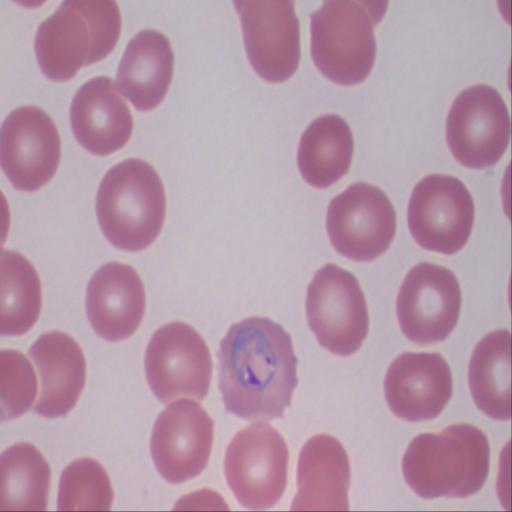Infected: (218, 317, 299, 421)
Uninfected: (304, 261, 371, 357), (98, 157, 163, 251), (150, 397, 217, 485), (147, 321, 215, 407), (326, 181, 397, 262), (309, 0, 376, 85), (446, 86, 512, 170), (21, 331, 85, 416), (224, 427, 290, 508), (67, 75, 132, 156), (0, 106, 61, 192), (114, 29, 176, 113), (408, 176, 473, 256), (382, 350, 452, 421), (396, 264, 460, 341), (242, 0, 300, 84), (86, 260, 144, 339), (402, 433, 467, 500), (297, 115, 353, 189), (467, 329, 512, 417), (36, 13, 91, 83), (0, 440, 53, 512), (442, 424, 490, 495), (58, 459, 113, 512)
